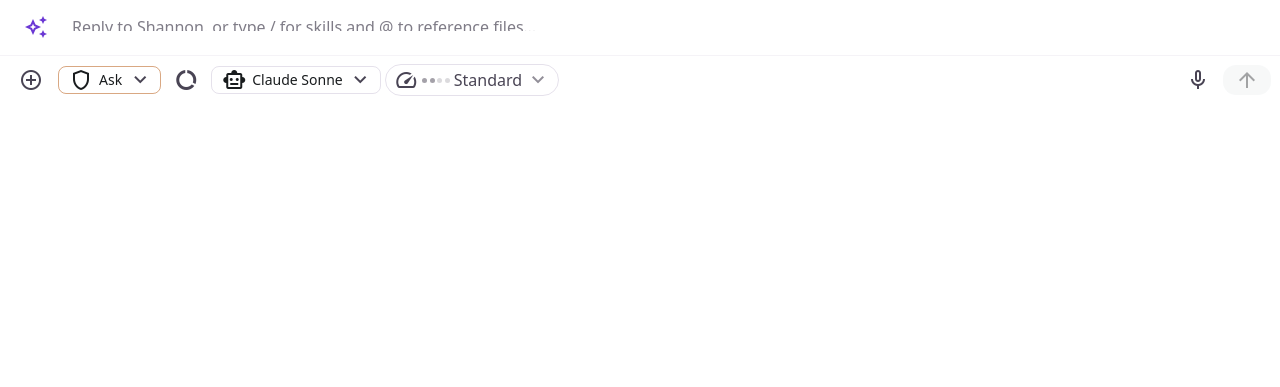
Test: ChatInput memory bypass (+ menu item, 02c D4) › reads the flag per focused session on mount
What coordinates should you click on to do the following:
click the button with test id "composer-plus-menu"
I would click on:
 (31, 80)
Its box is [8,62,54,96].
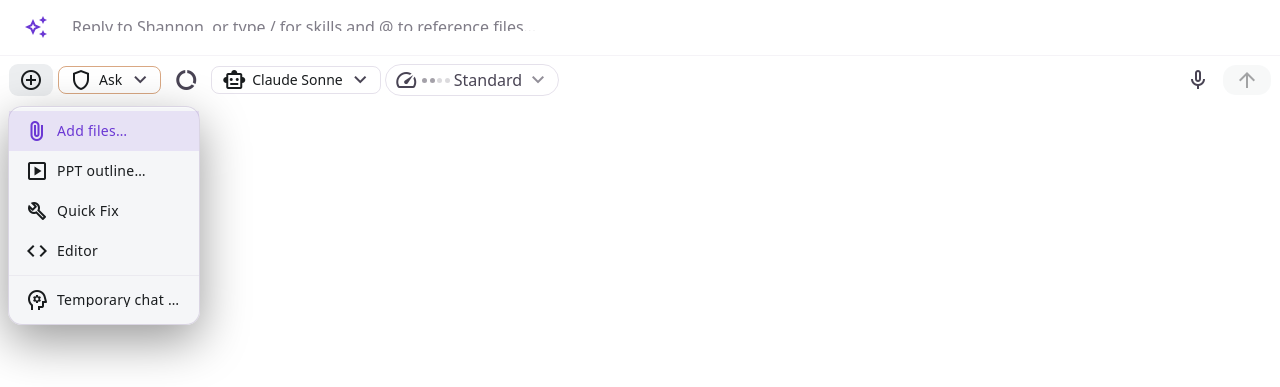
Now the menu item with test id "memory-bypass-toggle" reads "Temporary chat · off", box [9,280,199,320]
